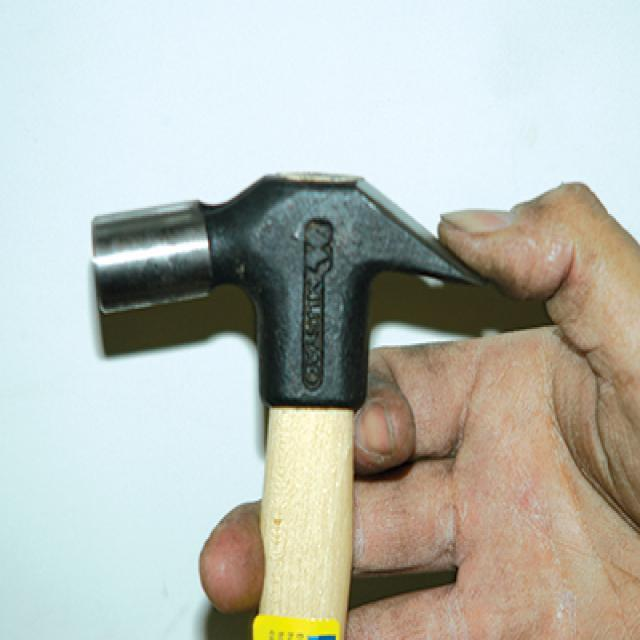hammer: (80, 157, 483, 640)
